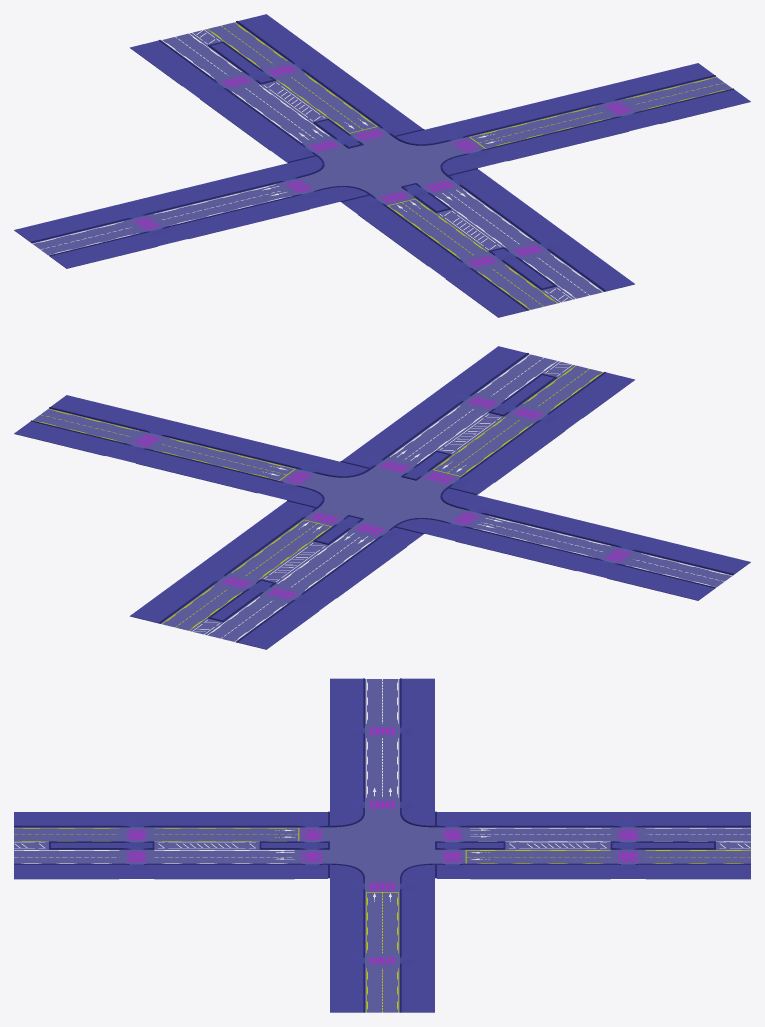
The model's file is Test_Route07.FBX.
The picture shows the model from 3 angles, top to bottom: view 1: azimuth 30°, elevation 25°; view 2: azimuth 150°, elevation 25°; view 3: azimuth 270°, elevation 25°; orthographic projection.
Parts seen in each view (by area): view 1: Plane442, Plane115, Plane089, Plane181, Plane105, Plane114, Plane182, Plane214, Plane104, Plane106, Plane109, Plane184 (+115 smaller); view 2: Plane442, Plane124, Plane172, Plane194, Plane119, Plane123, Plane195, Plane217, Plane118, Plane120, Plane121, Plane197 (+115 smaller); view 3: Plane442, Plane065, Plane132, Plane062, Plane064, Plane066, Plane079, Plane093, Plane130, Plane131, Plane138, Plane153 (+56 smaller).
Boxes of the visible parts, x1=… form: Plane442: x1=305, y1=137, x2=458, y2=194; Plane115: x1=49, y1=248, x2=96, y2=268; Plane089: x1=481, y1=297, x2=528, y2=317; Plane181: x1=581, y1=118, x2=629, y2=138; Plane105: x1=201, y1=211, x2=248, y2=231; Plane114: x1=80, y1=240, x2=127, y2=261; Plane182: x1=551, y1=125, x2=598, y2=146; Plane214: x1=703, y1=88, x2=750, y2=109; Plane104: x1=232, y1=203, x2=279, y2=224; Plane106: x1=171, y1=218, x2=218, y2=238; Plane109: x1=110, y1=233, x2=157, y2=253; Plane184: x1=490, y1=140, x2=537, y2=160; Plane442: x1=306, y1=469, x2=459, y2=526; Plane124: x1=668, y1=580, x2=715, y2=600; Plane172: x1=236, y1=629, x2=283, y2=649; Plane194: x1=135, y1=450, x2=183, y2=470; Plane119: x1=516, y1=543, x2=563, y2=563; Plane123: x1=637, y1=572, x2=684, y2=593; Plane195: x1=166, y1=457, x2=213, y2=478; Plane217: x1=14, y1=420, x2=61, y2=441; Plane118: x1=485, y1=535, x2=532, y2=556; Plane120: x1=546, y1=550, x2=593, y2=570; Plane121: x1=607, y1=565, x2=654, y2=585; Plane197: x1=227, y1=472, x2=274, y2=492; Plane442: x1=330, y1=812, x2=434, y2=879; Plane065: x1=189, y1=863, x2=224, y2=879; Plane132: x1=540, y1=863, x2=575, y2=879; Plane062: x1=259, y1=863, x2=294, y2=879; Plane064: x1=224, y1=863, x2=259, y2=879; Plane066: x1=154, y1=863, x2=189, y2=879; Plane079: x1=84, y1=863, x2=119, y2=879; Plane093: x1=49, y1=863, x2=84, y2=879; Plane130: x1=470, y1=863, x2=505, y2=879; Plane131: x1=505, y1=863, x2=540, y2=879; Plane138: x1=575, y1=863, x2=610, y2=879; Plane153: x1=645, y1=863, x2=680, y2=879.
Size of the model in its own units: 22500 by 21000 by 41.85.
